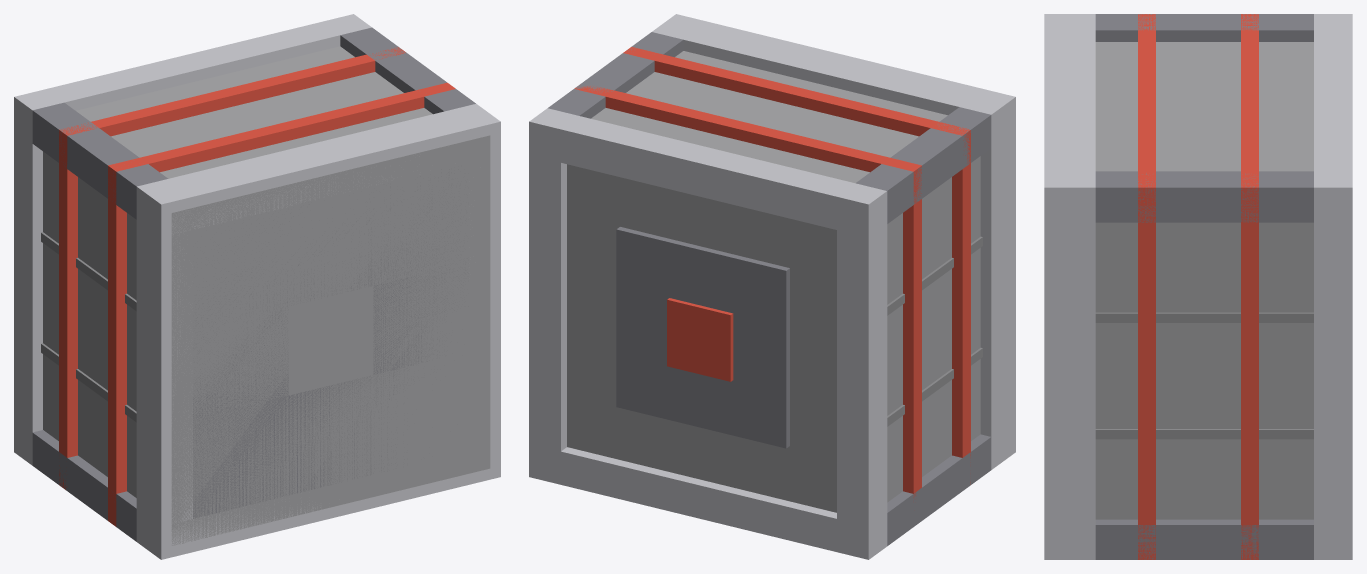
File: piston_2_on.gltf
3 views of the same model, side by side, from view 1: azimuth 30°, elevation 25°; view 2: azimuth 150°, elevation 25°; view 3: azimuth 270°, elevation 25° (orthographic). The views are drawn at different scales.
Parts seen in each view (by area): view 1: piston_2_on; view 2: piston_2_on; view 3: piston_2_on.
Boxes of the visible parts, x1,y1,x2,y2 form: piston_2_on: (14,14,500,559); piston_2_on: (529,14,1015,559); piston_2_on: (1044,14,1352,559).
Size of the model in its own units: 1 by 1 by 0.75.
